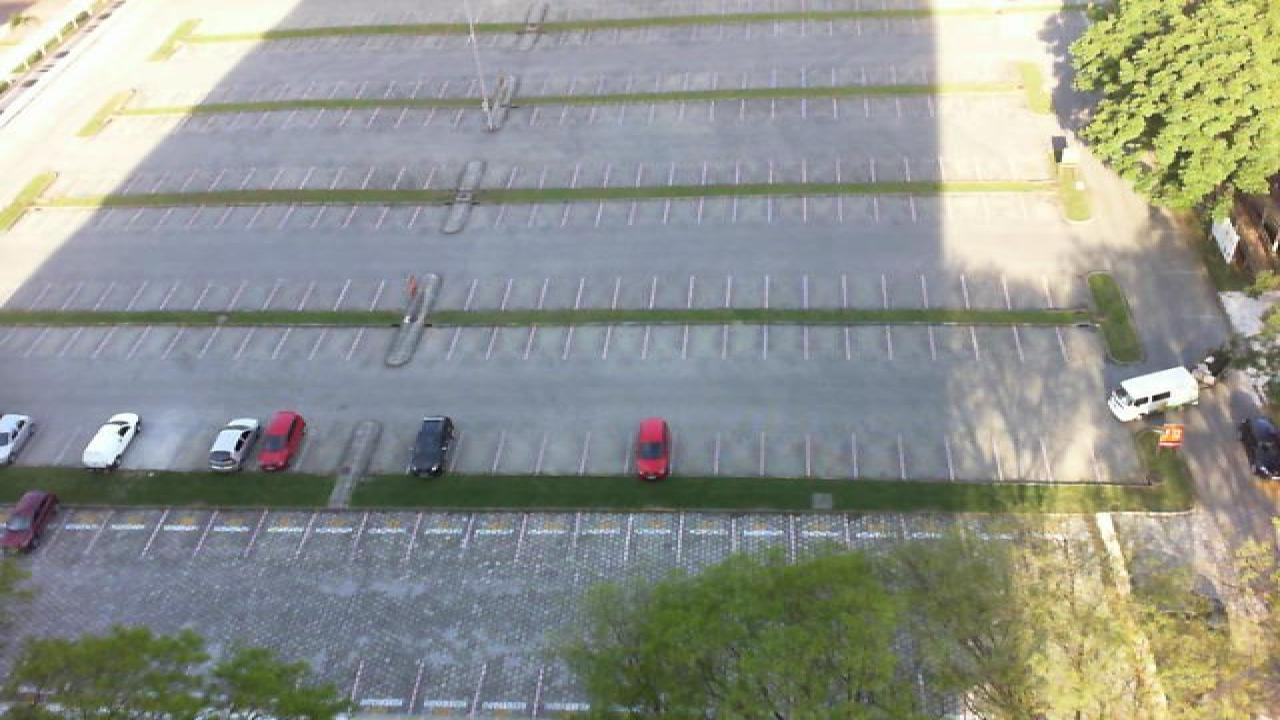Car: (1106, 366, 1202, 423), (0, 490, 60, 557), (80, 411, 144, 472), (406, 415, 458, 479), (254, 411, 308, 472), (206, 416, 262, 474), (1238, 413, 1280, 484), (634, 417, 672, 480), (0, 413, 34, 468)
